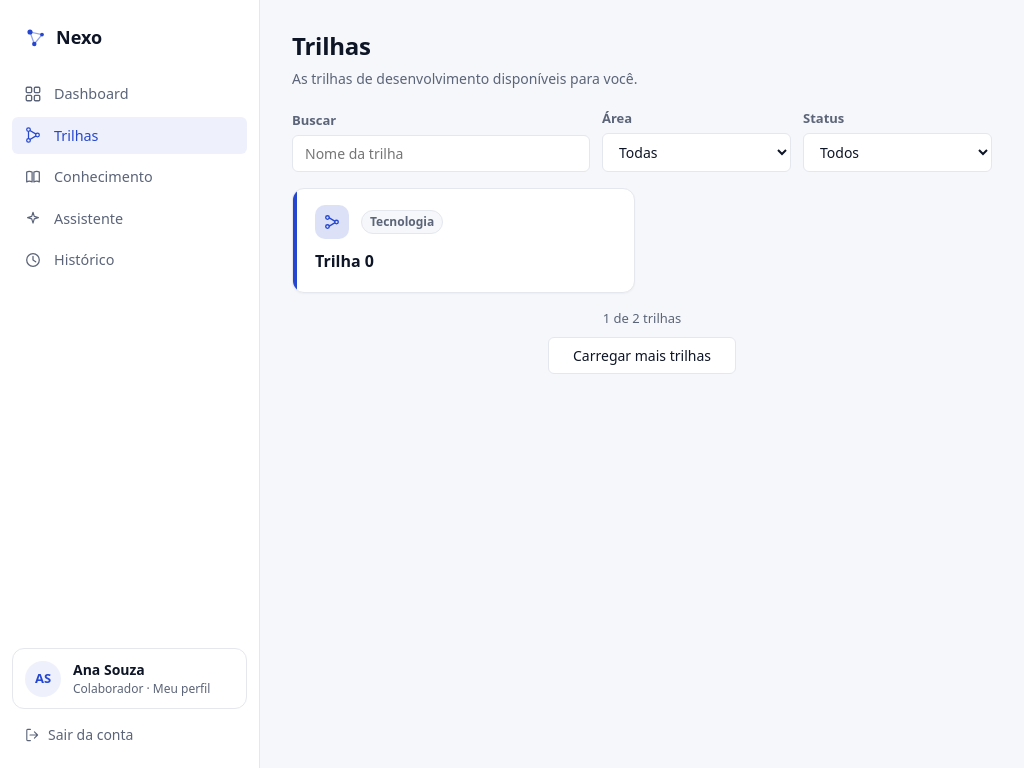
TrilhasPage › carrega a próxima página e mantém as trilhas já exibidas
Check: the link "Tecnologia Trilha 0" is shown, box [292,188,635,293]
Check: the text "1 de 2 trilhas" is shown, box [603,309,681,329]
Click the button "Carregar mais trilhas": [642, 355] box [548,337,736,374]
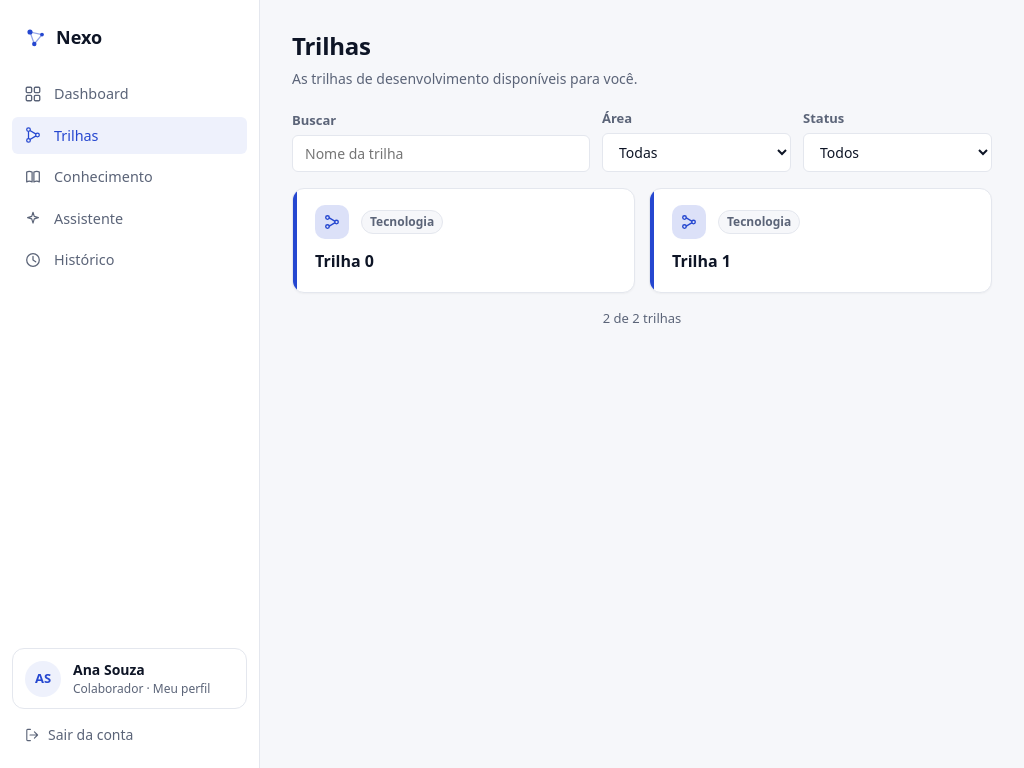
Check: the link "Tecnologia Trilha 1" is shown, box [649,188,992,293]
Check: the text "2 de 2 trilhas" is shown, box [603,309,681,329]
Check: the button "Carregar mais trilhas" is gone
